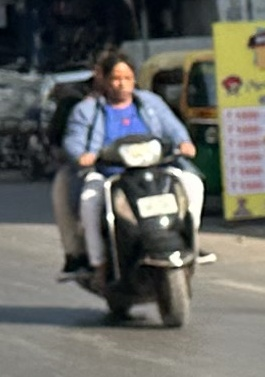BikeWithRider: (41, 39, 222, 333)
NoHelmet: (98, 52, 142, 106), (85, 41, 129, 88)
